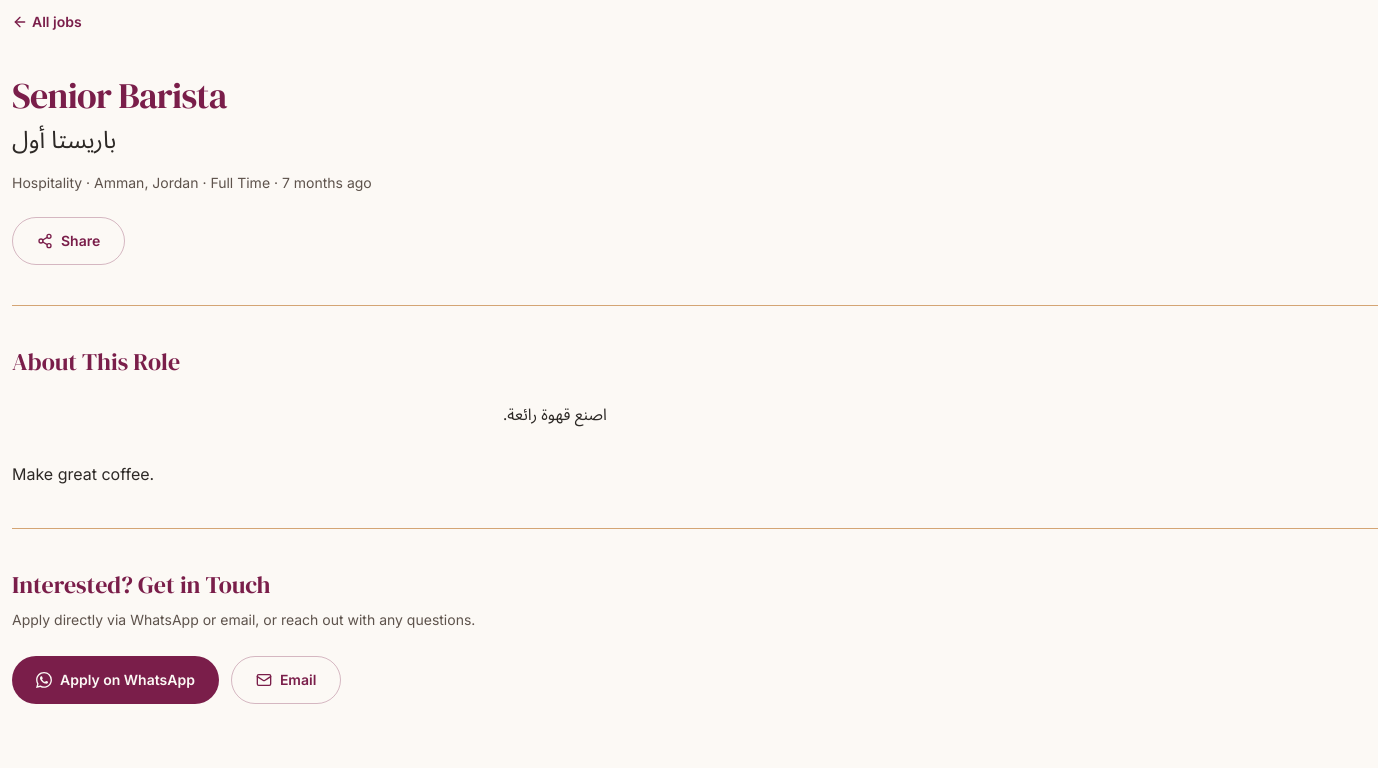
Scenario: Phase 4 Jobs page › copies the share URL to clipboard
Click the button with aria-label "Share this job - copy URL to clipboard". click: [69, 241]
box: x1=12 y1=217 x2=125 y2=265
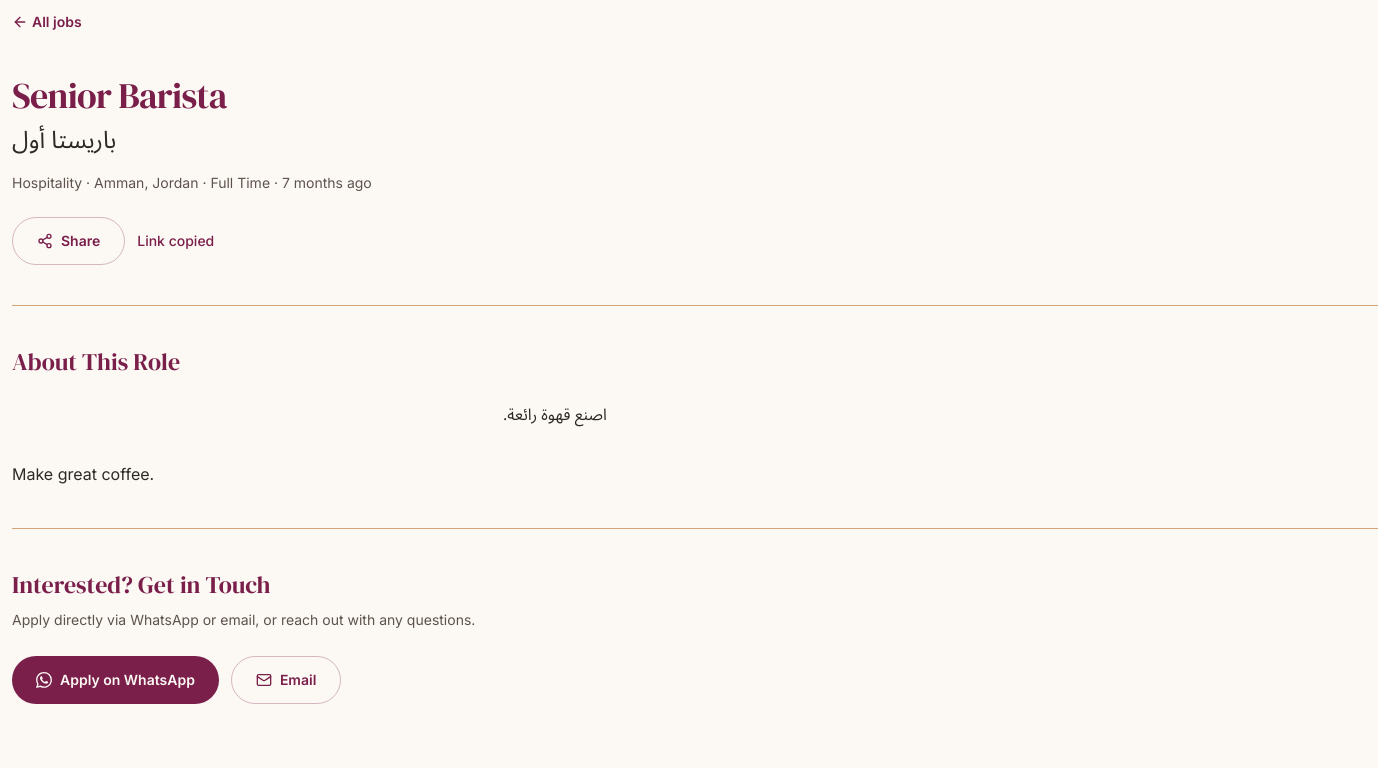
Result: the text "Link copied" is shown at x1=137 y1=231 x2=214 y2=251
